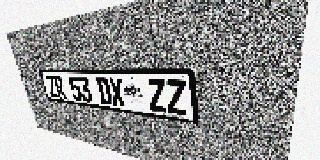3: (77, 77, 93, 103)
5: (68, 76, 83, 101)
D: (96, 77, 113, 105)
R: (53, 76, 67, 99)
X: (108, 78, 126, 107)
Z: (165, 79, 187, 116), (146, 79, 167, 113), (45, 76, 59, 98)
